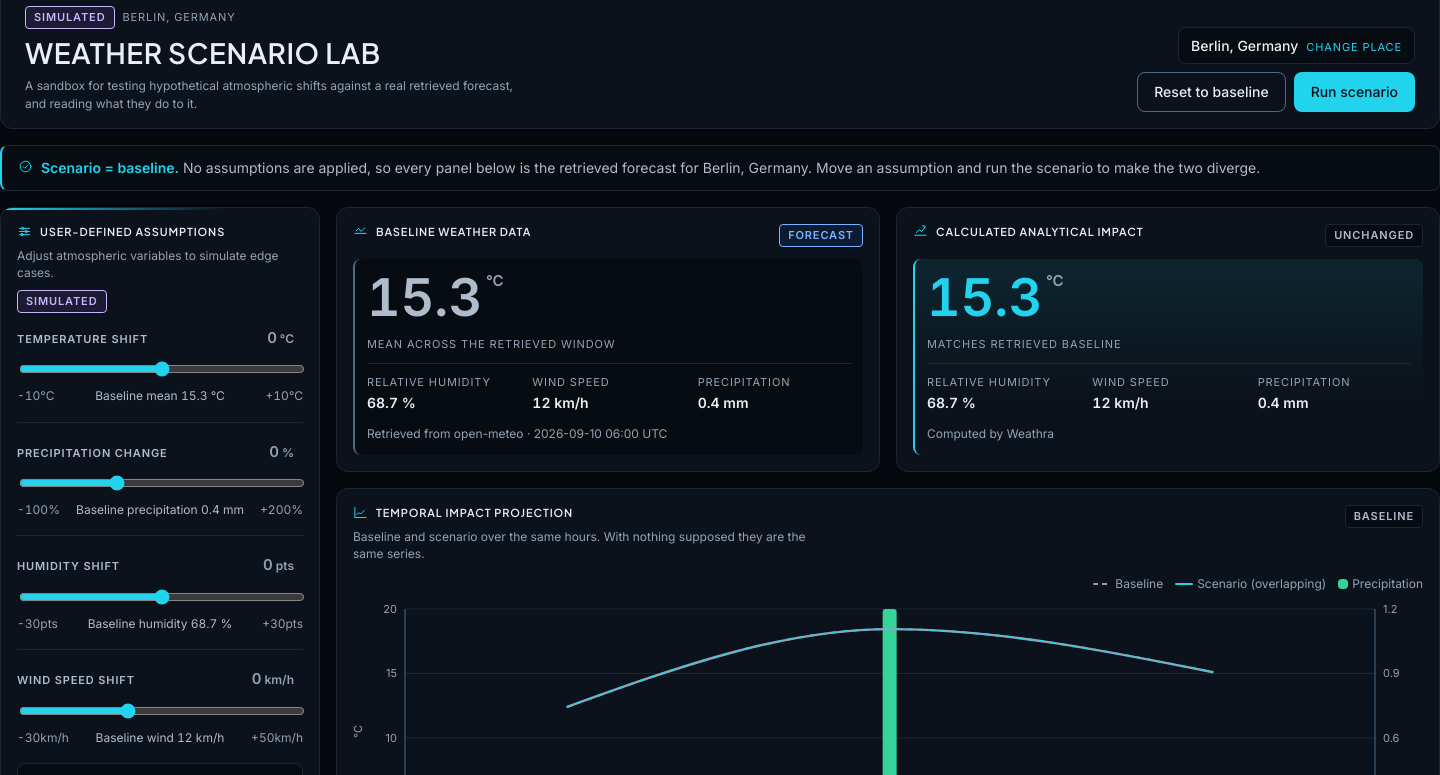
Scenario: running a scenario › applies the assumptions and updates every panel from the one run
Check: the heading "Temporal impact projection" is shown, box 353,505 -> 573,520
Replace the text in the number field named "Temperature shift, exact value" with "2.5": (252, 338) 227,328 -> 277,348
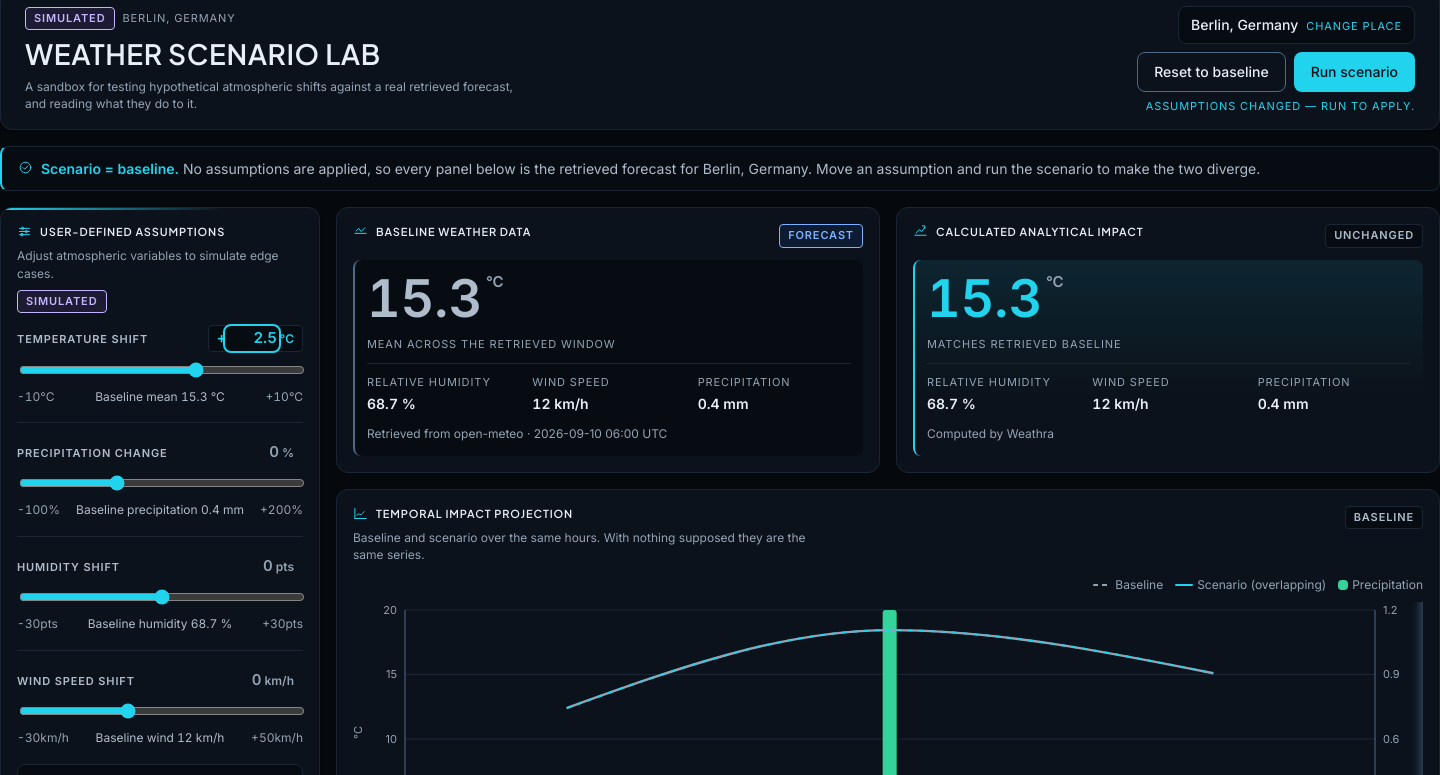
Click the button "Run scenario": (1354, 72) 1294,52 -> 1415,92
(page scrolled)
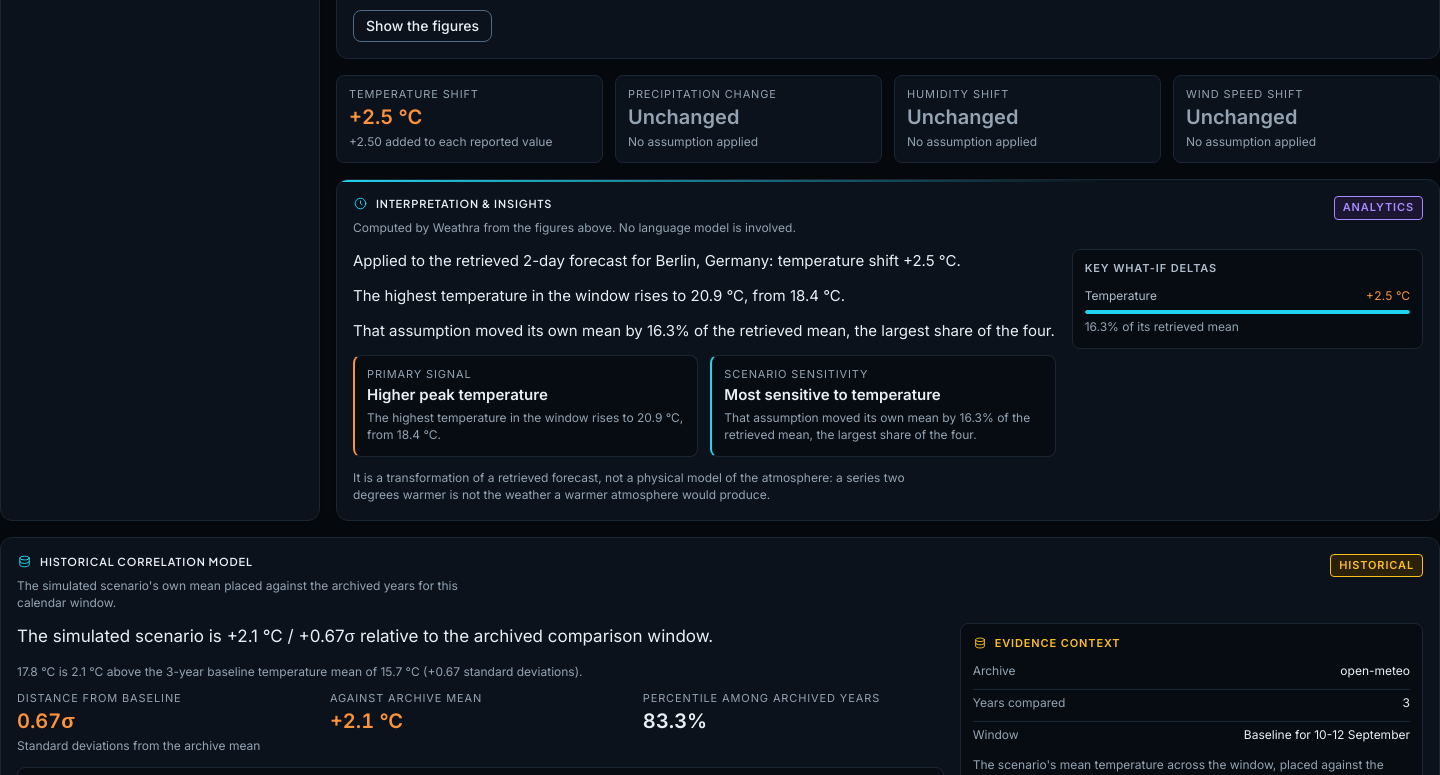
Check: the text "Higher peak temperature" is shown, box 367,385 -> 548,404
Check: the text "Most sensitive to temperature" is shown, box 724,385 -> 941,404
